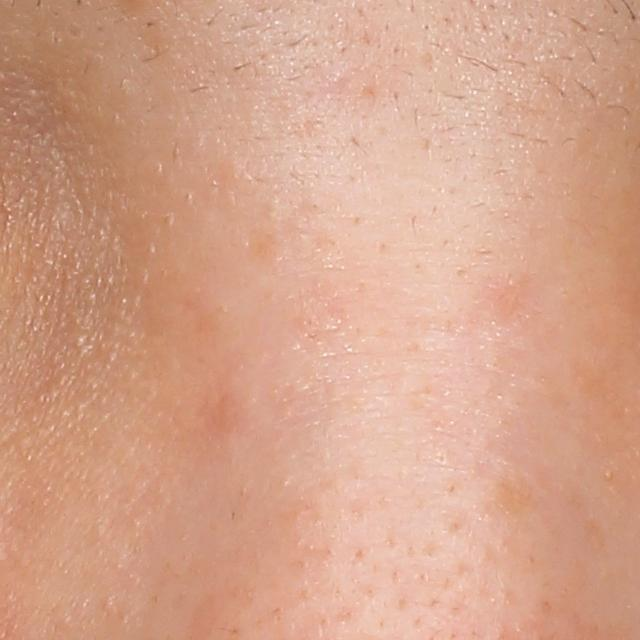melasma: (491, 474, 536, 522)
